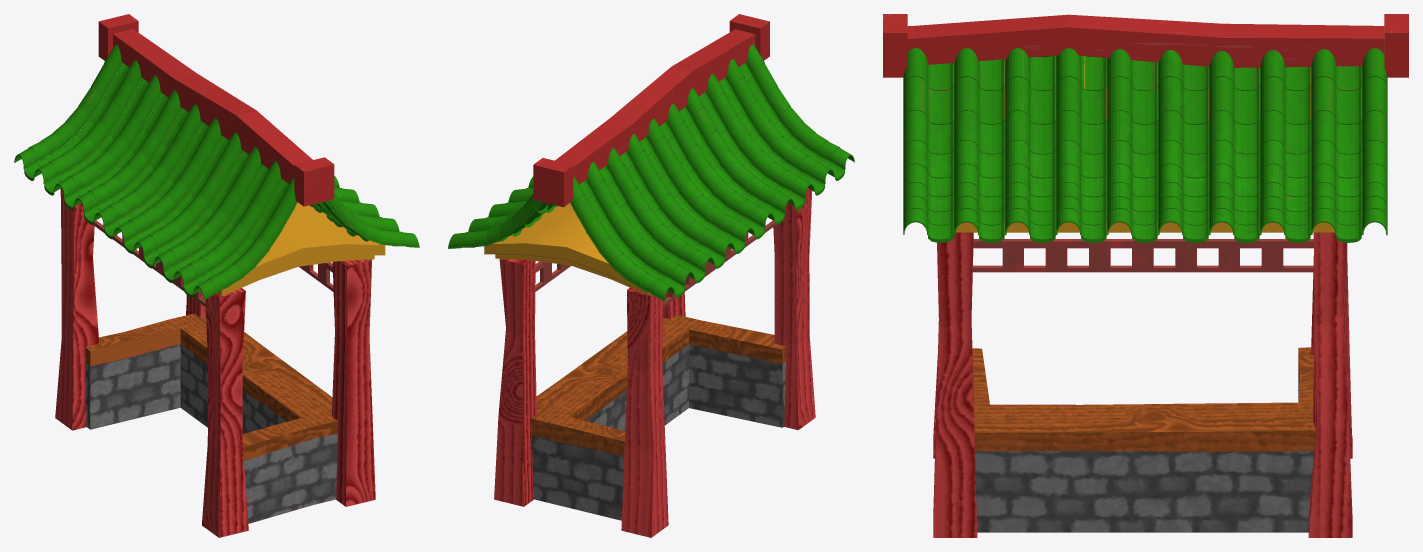
The model's file is booth 1-1.fbx.
3 views of the same model, side by side, from view 1: azimuth 30°, elevation 25°; view 2: azimuth 150°, elevation 25°; view 3: azimuth 270°, elevation 25° (orthographic). The views are drawn at different scales.
Visible parts, largest first — view 1: Cylinder.001, Cube.004, Cube, Cube.006, Cube.001, Cube.003; view 2: Cylinder.001, Cube.004, Cube, Cube.006, Cube.001, Cube.003, Cube.002; view 3: Cylinder.001, Cube, Cube.004, Cube.006, Cube.002, Cube.001.
Boxes of the visible parts, left/top/right/bottom form: Cylinder.001: left=14, top=44, right=419, bottom=300; Cube.004: left=55, top=188, right=375, bottom=537; Cube: left=85, top=313, right=337, bottom=523; Cube.006: left=98, top=14, right=334, bottom=206; Cube.001: left=62, top=123, right=385, bottom=295; Cube.003: left=93, top=220, right=205, bottom=306; Cylinder.001: left=448, top=44, right=854, bottom=301; Cube.004: left=494, top=188, right=815, bottom=537; Cube: left=531, top=314, right=786, bottom=520; Cube.006: left=533, top=14, right=769, bottom=207; Cube.001: left=484, top=203, right=650, bottom=295; Cube.003: left=663, top=220, right=775, bottom=307; Cube.002: left=535, top=261, right=570, bottom=291; Cylinder.001: left=903, top=48, right=1387, bottom=242; Cube: left=972, top=347, right=1315, bottom=532; Cube.004: left=933, top=232, right=1352, bottom=537; Cube.006: left=883, top=14, right=1408, bottom=77; Cube.002: left=972, top=239, right=1313, bottom=272; Cube.001: left=923, top=222, right=1334, bottom=232.
Size of the model in its own units: 971 by 1568 by 1592.
1 material, 1 textured.
